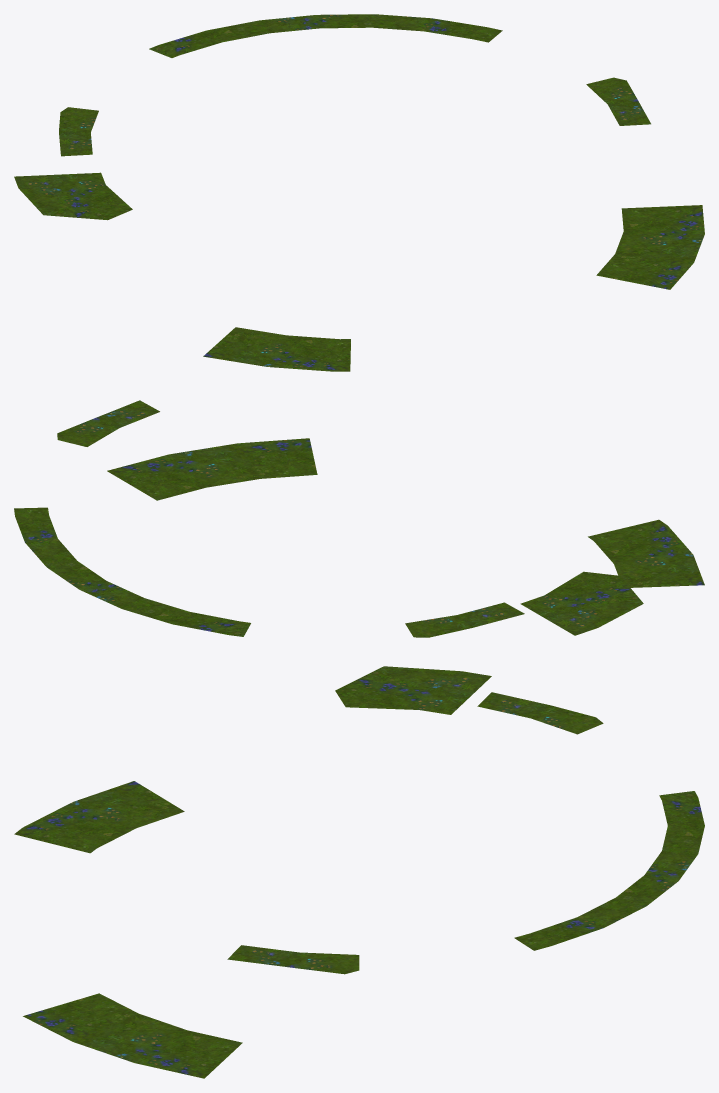
Rendered from ZC_caoping01.FBX.
3 renders of one model, top to bottom at view 1: azimuth 30°, elevation 25°; view 2: azimuth 150°, elevation 25°; view 3: azimuth 270°, elevation 25°, orthographic. The views are drawn at different scales.
Parts seen in each view (by area): view 1: ZC_caoping01_001, ZC_caoping01_004, ZC_caoping01_003, ZC_caoping01_002; view 2: ZC_caoping01_001, ZC_caoping01_004, ZC_caoping01_003, ZC_caoping01_002; view 3: ZC_caoping01_001, ZC_caoping01_004, ZC_caoping01_003, ZC_caoping01_002.
Part boxes in pixels (left/top/right/bottom): ZC_caoping01_001: left=59, top=14, right=650, bottom=156; ZC_caoping01_004: left=596, top=205, right=704, bottom=289; ZC_caoping01_003: left=203, top=327, right=350, bottom=371; ZC_caoping01_002: left=14, top=172, right=132, bottom=220; ZC_caoping01_001: left=14, top=400, right=524, bottom=637; ZC_caoping01_004: left=107, top=438, right=317, bottom=500; ZC_caoping01_003: left=588, top=519, right=704, bottom=587; ZC_caoping01_002: left=520, top=571, right=643, bottom=635; ZC_caoping01_001: left=227, top=692, right=704, bottom=974; ZC_caoping01_004: left=23, top=993, right=242, bottom=1078; ZC_caoping01_003: left=14, top=781, right=184, bottom=853; ZC_caoping01_002: left=335, top=666, right=491, bottom=714.
Bounding box in the file's own units: 4967 × 682 × 4441.
Materials: 1 (1 with a texture image).
